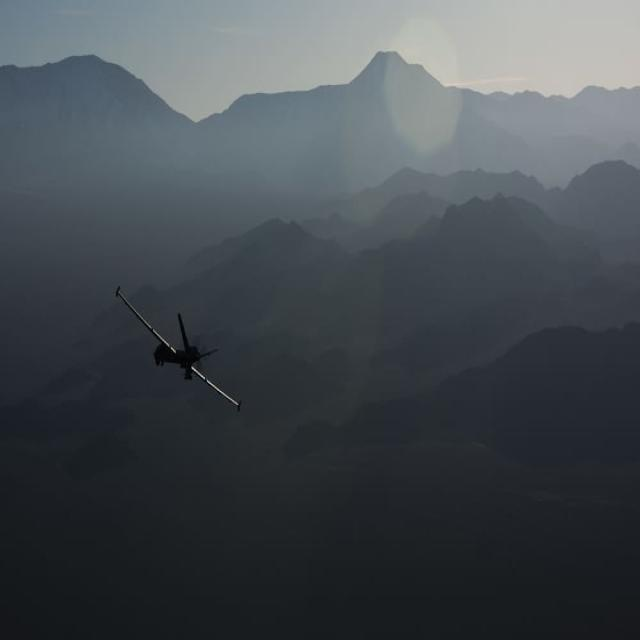MIL_Plane: (114, 285, 242, 413)
